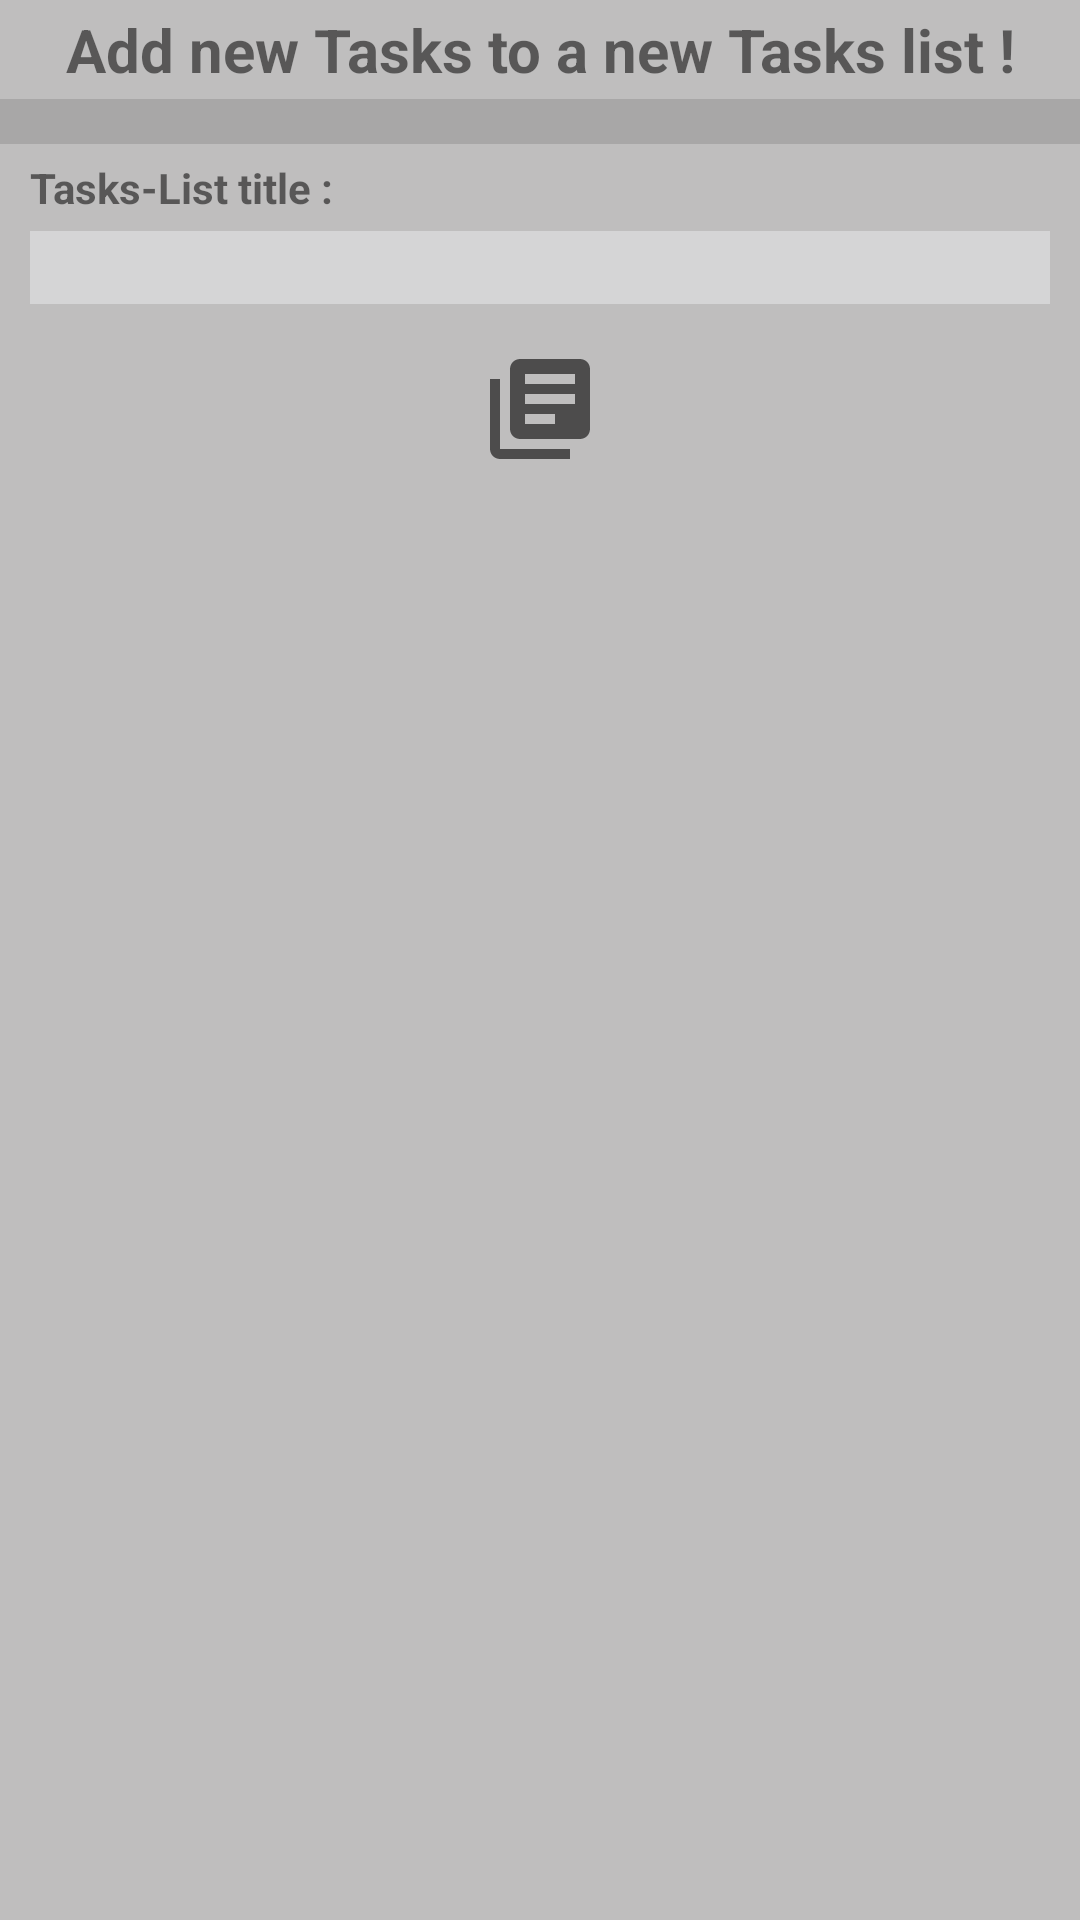

Locate icon controls on the screen. Image size 1080x1920, boxes as (x1, y1, x2, y2).
library books: (490, 359, 590, 459)
